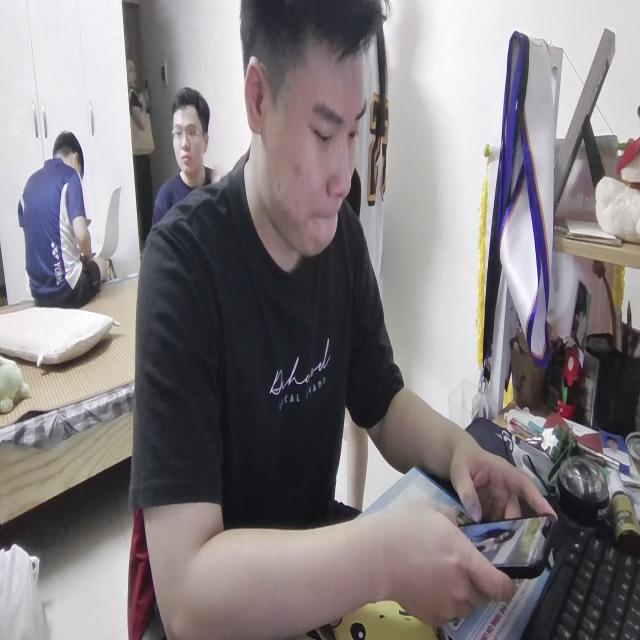extra_person: (16, 124, 98, 316), (148, 88, 222, 217), (124, 48, 154, 250)
phone: (462, 504, 551, 576)
student: (133, 0, 558, 637)
